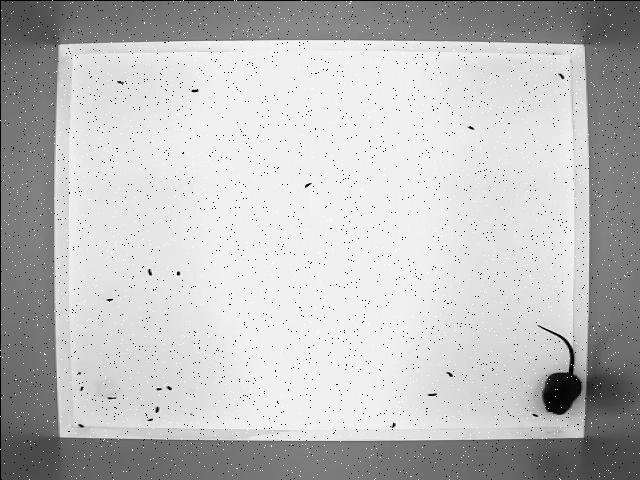Tikus: (532, 322, 582, 419)
